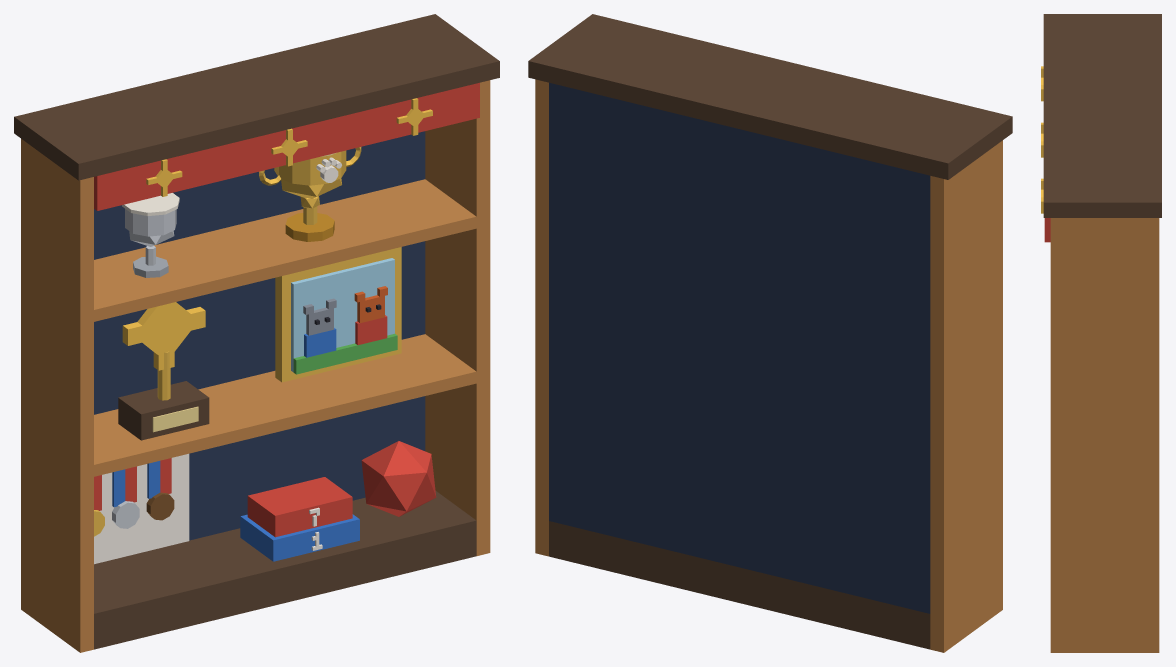
Rendered from CatCafe_Decor_TrophyShelf.fbx.
3 renders of one model, left to right at view 1: azimuth 30°, elevation 25°; view 2: azimuth 150°, elevation 25°; view 3: azimuth 270°, elevation 25°, orthographic. The views are drawn at different scales.
Visible parts, largest first — view 1: CatCafe_Decor_TrophyShelf; view 2: CatCafe_Decor_TrophyShelf; view 3: CatCafe_Decor_TrophyShelf.
Boxes of the visible parts, x1,y1,x2,y2 form: CatCafe_Decor_TrophyShelf: (14, 14, 499, 652); CatCafe_Decor_TrophyShelf: (528, 14, 1012, 652); CatCafe_Decor_TrophyShelf: (1041, 14, 1161, 652).
Bounding box in the file's own units: 3.7 × 4.14 × 1.
Materials: 1 (1 with a texture image).
